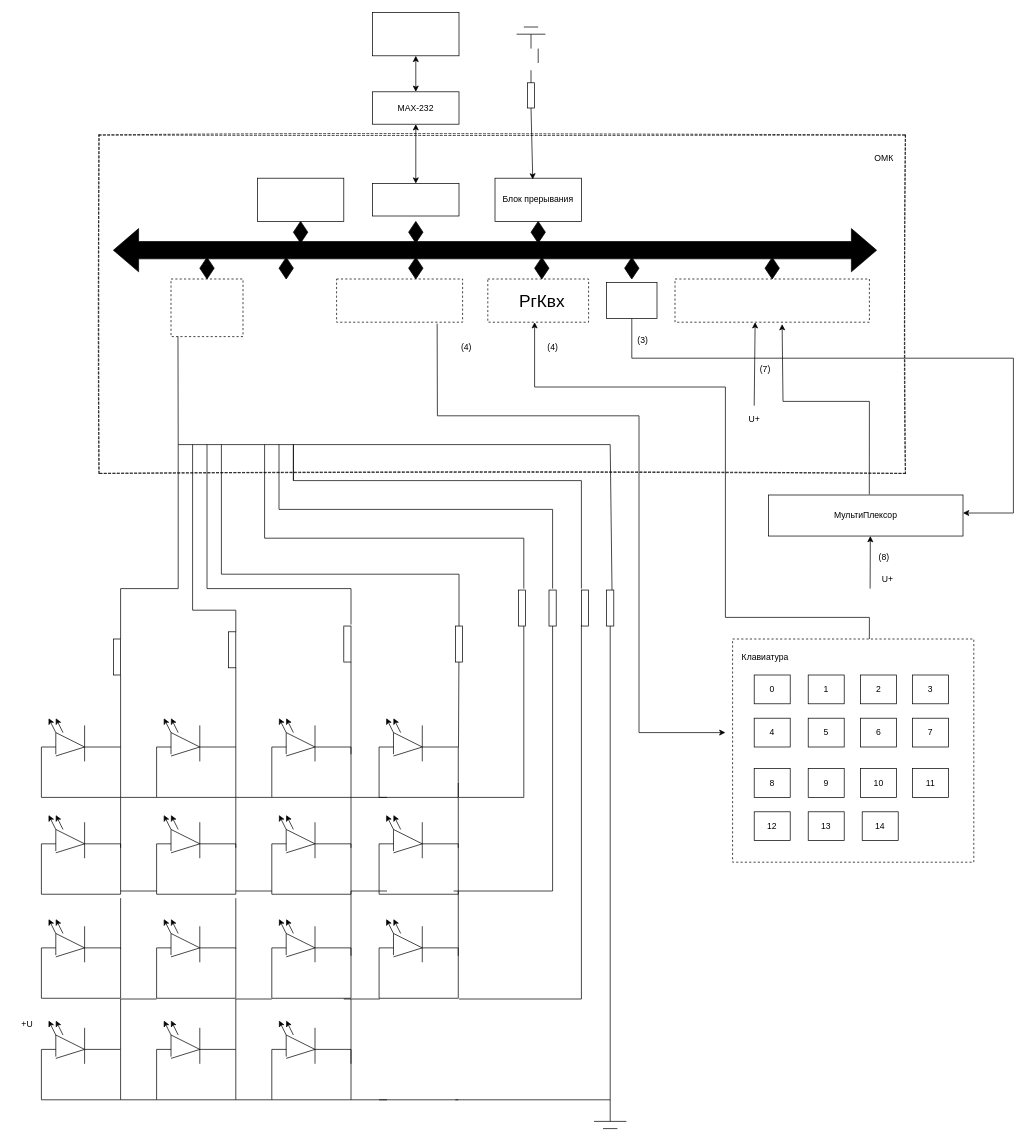
This 1032x1142 diagram has some shape labels left out. The shapes that lost their labels are listed below. From the top down, each one's box as (x1, y1, x2, y2) in pixels, then its label:
(372, 12, 459, 56): ПУ
(257, 177, 344, 221): ПЗУ
(372, 183, 459, 216): UART
(170, 278, 243, 337): РгИ
(336, 278, 463, 322): РгКвых
(606, 282, 657, 319): РгА
(674, 278, 869, 322): АЦП
